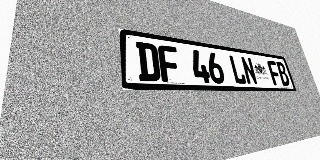4: (189, 49, 211, 83)
6: (205, 51, 226, 84)
B: (275, 61, 291, 86)
D: (136, 41, 161, 82)
F: (157, 45, 181, 82), (266, 60, 283, 86)
L: (228, 55, 247, 84)
N: (240, 56, 258, 85)
